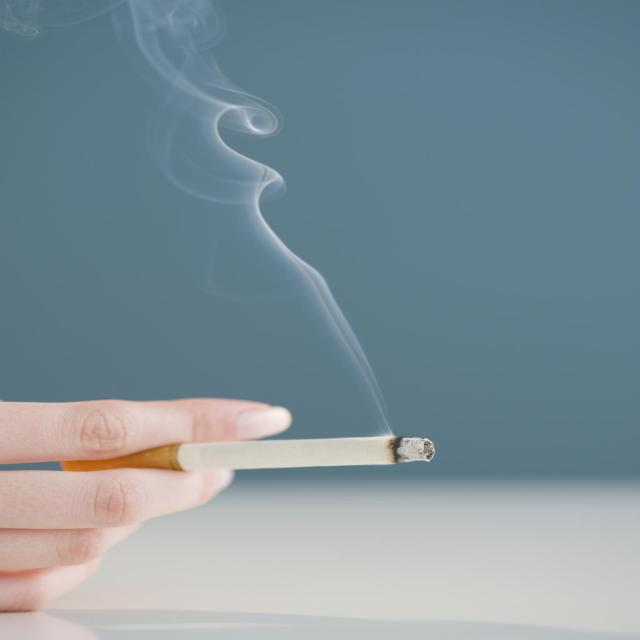smoking: (59, 434, 437, 474)
